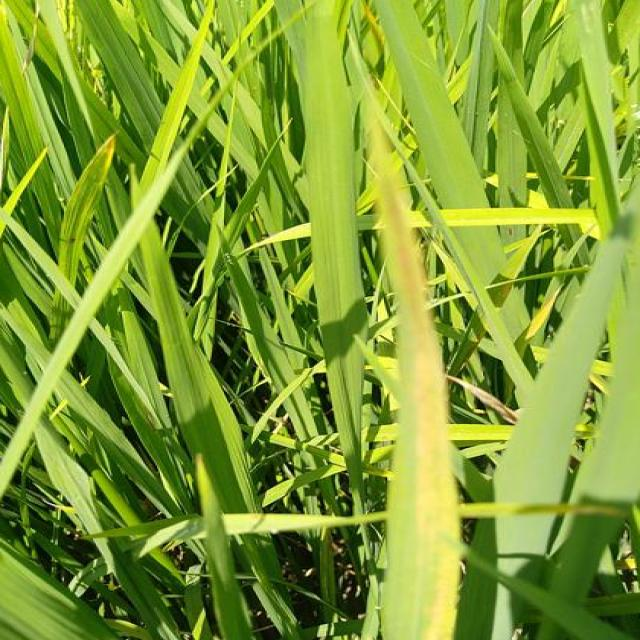Leaf Streak: (347, 29, 460, 640)
